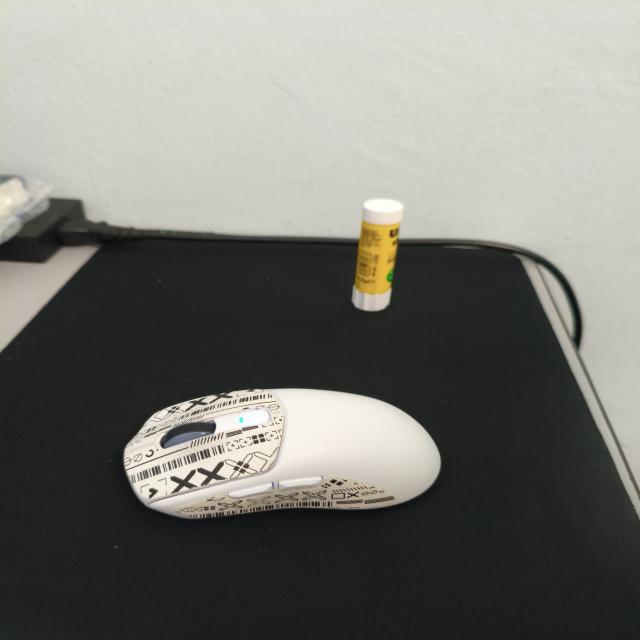glue: (351, 197, 405, 312)
